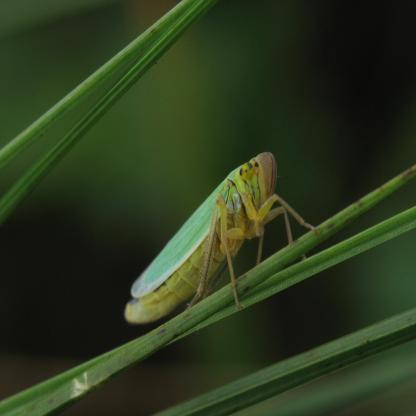Green-Leafhopper: (120, 151, 316, 329)
